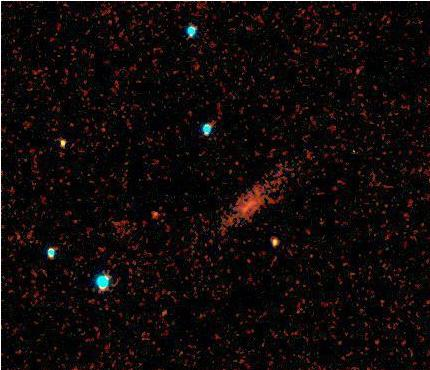star: (343, 55, 373, 85)
